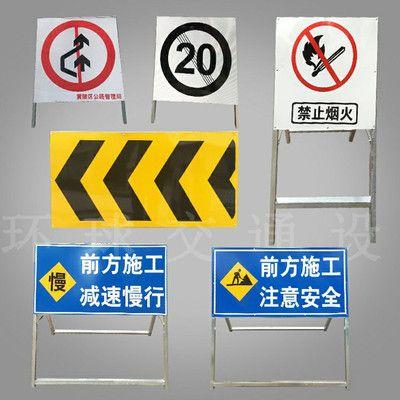sign: (274, 17, 378, 233), (209, 246, 353, 392), (30, 241, 171, 387), (45, 132, 237, 227)
